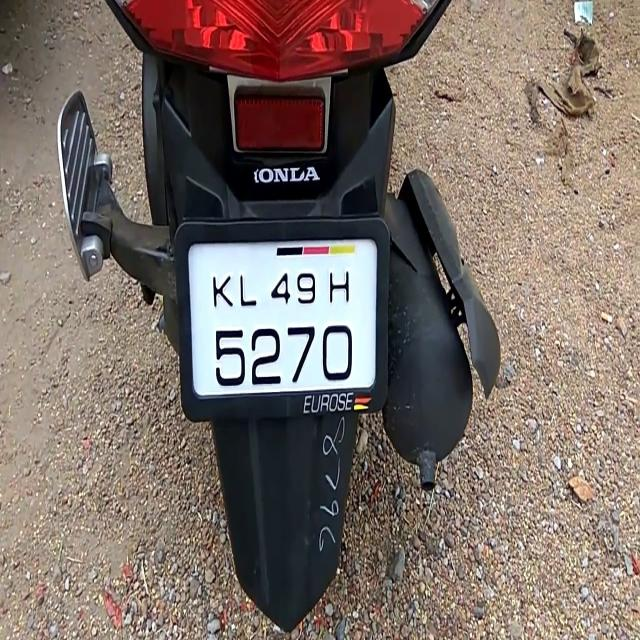number_plate: (192, 259, 372, 385)
